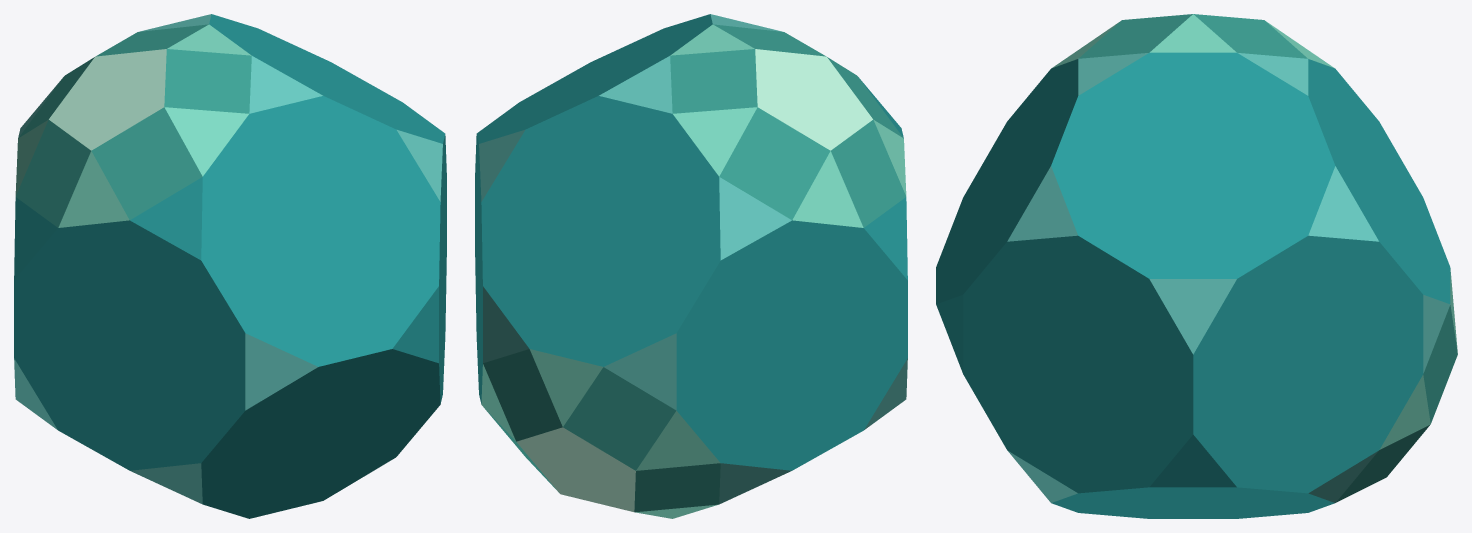
Rendered from J70.DodecaedroTruncadoMetabiaumentado.gltf.
3 renders of one model, left to right at view 1: azimuth 30°, elevation 25°; view 2: azimuth 150°, elevation 25°; view 3: azimuth 270°, elevation 25°, orthographic. The views are drawn at different scales.
Visible parts, largest first — view 1: J70.DodecaedroTruncadoMetabiaumentado; view 2: J70.DodecaedroTruncadoMetabiaumentado; view 3: J70.DodecaedroTruncadoMetabiaumentado.
Part boxes in pixels (bbox=[...]): J70.DodecaedroTruncadoMetabiaumentado: bbox=[14, 14, 446, 518]; J70.DodecaedroTruncadoMetabiaumentado: bbox=[475, 14, 907, 518]; J70.DodecaedroTruncadoMetabiaumentado: bbox=[936, 14, 1457, 518].
Size of the model in its own units: 18.68 by 18.96 by 18.96.
